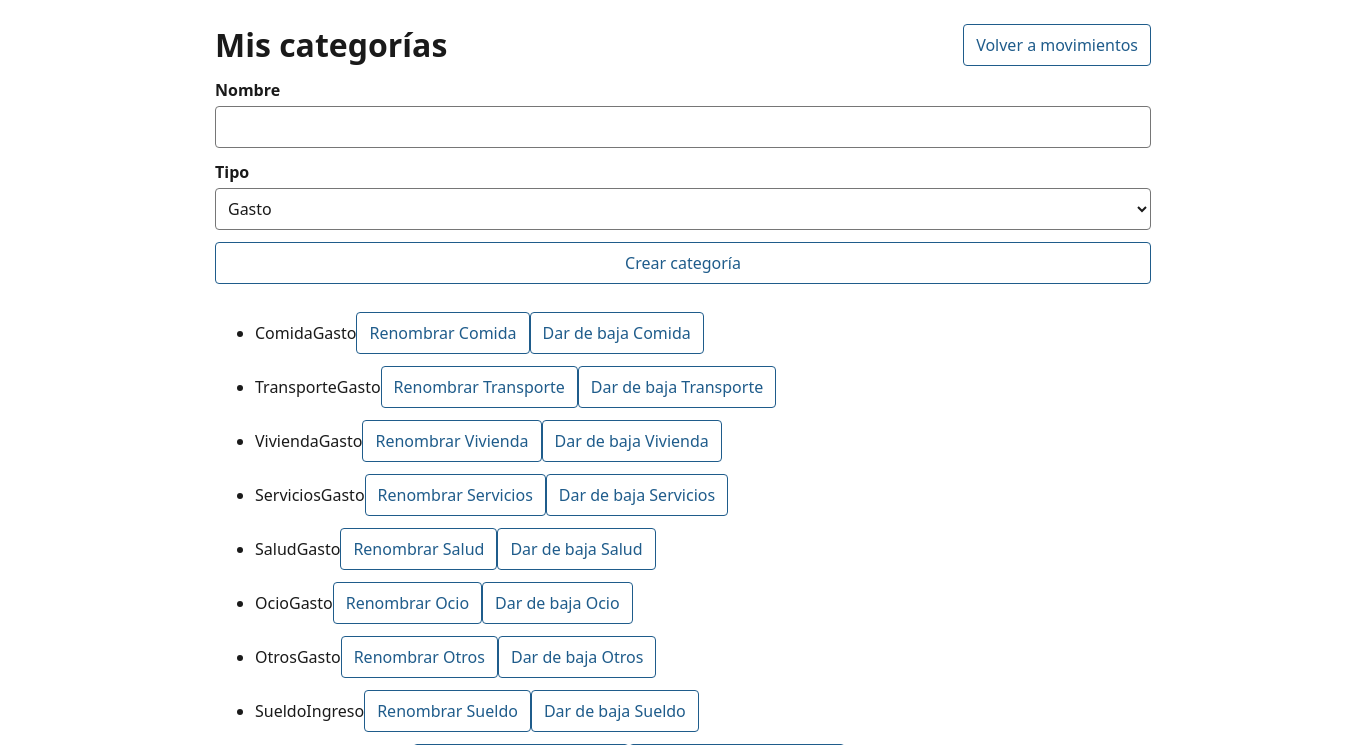
Test: PantallaCategorias — crear › un error que no es de validación también se ve
The width and height of the screenshot is (1366, 745).
Type "Mascotas" into the field labelled "Nombre".
click(683, 127); type("Mascotas")  # box [215,106,1151,148]
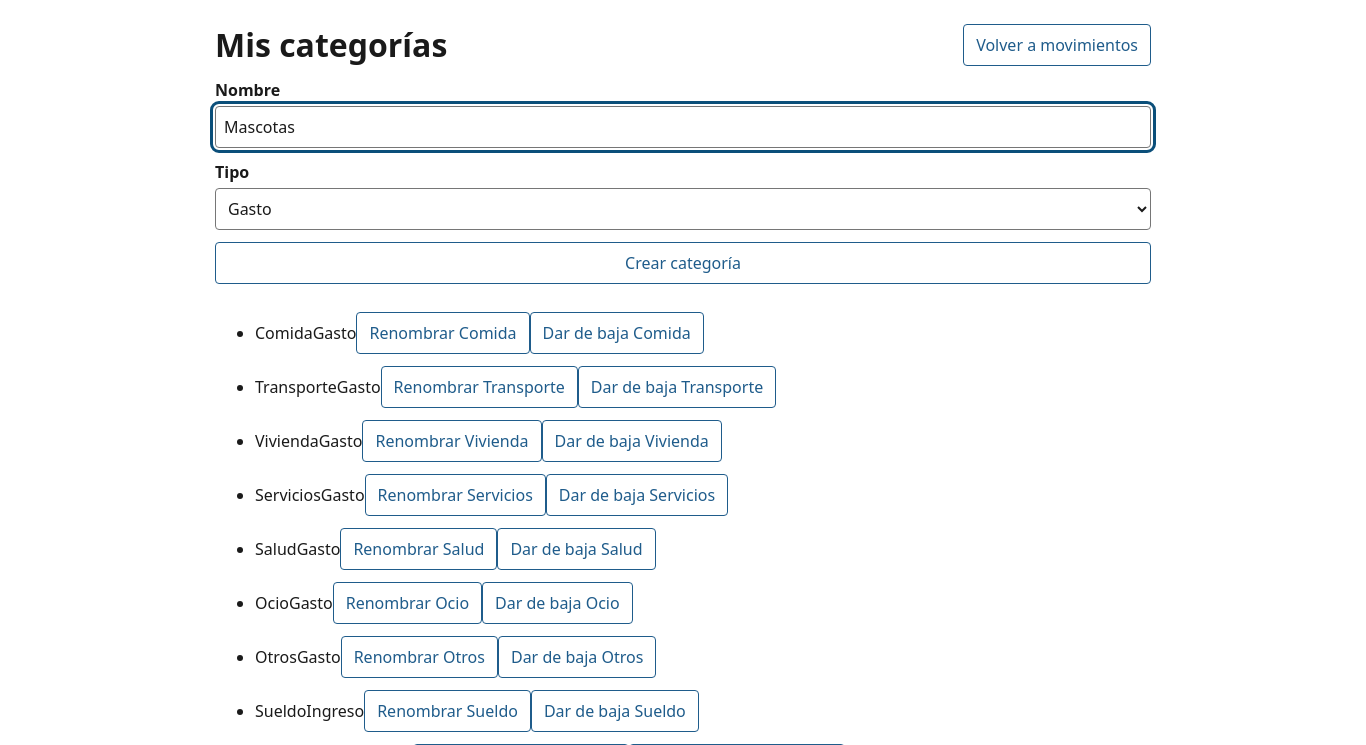
Click the button "Crear categoría".
click(683, 263)  # box [215,242,1151,284]
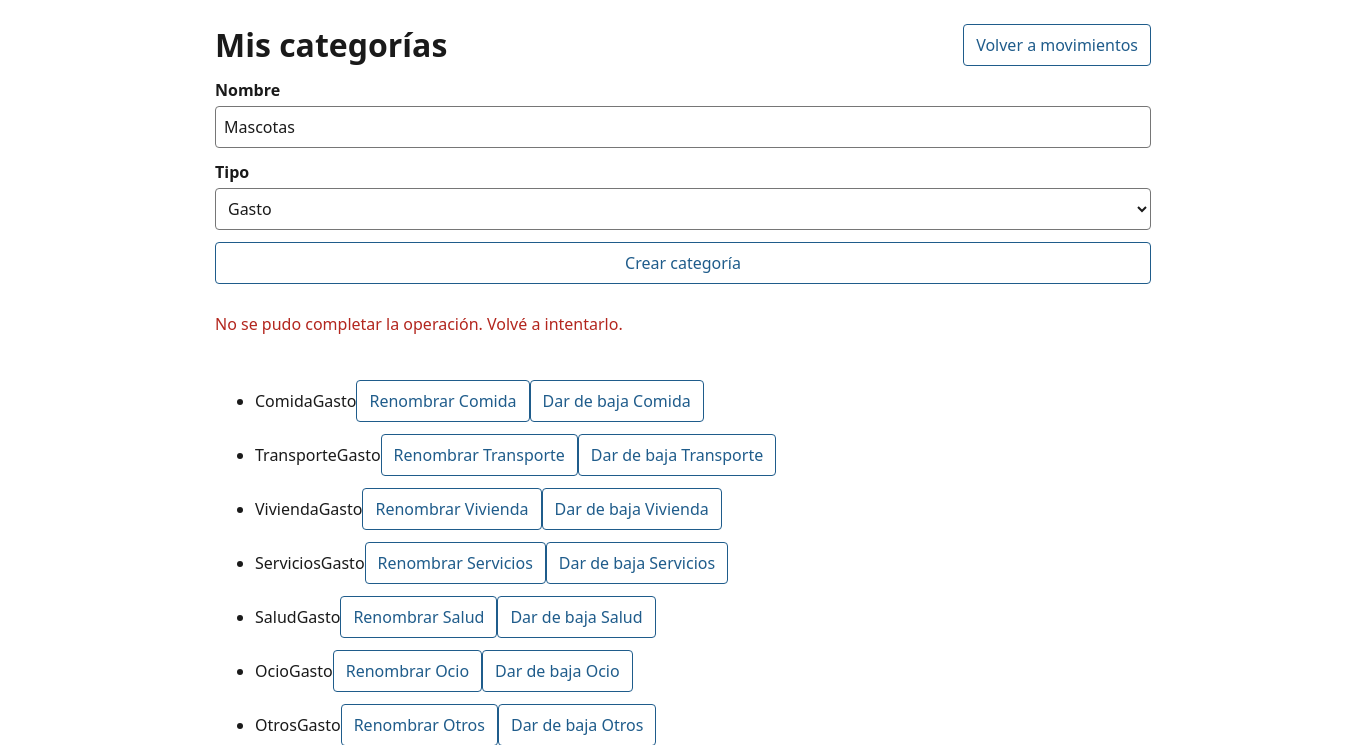
Check: the message "No se pudo completar la operación. Volvé a intentarlo." is shown, box [215,313,623,335]
